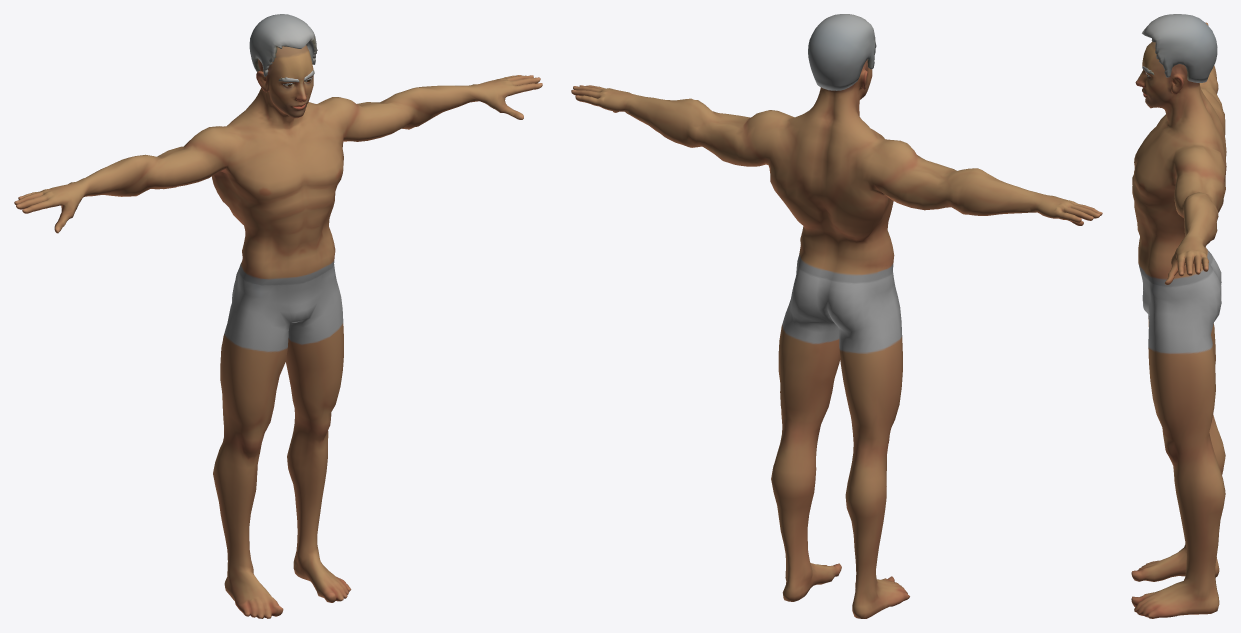
Rendered from character-male-c.glb.
The picture shows the model from 3 angles, left to right: view 1: azimuth 30°, elevation 25°; view 2: azimuth 150°, elevation 25°; view 3: azimuth 270°, elevation 25°; orthographic projection.
Visible parts, largest first — view 1: crowd-body; view 2: crowd-body; view 3: crowd-body.
Boxes of the visible parts, x1,y1,x2,y2 form: crowd-body: [14, 14, 542, 618]; crowd-body: [571, 14, 1102, 618]; crowd-body: [1131, 14, 1226, 618].
Size of the model in its own units: 1.53 by 1.61 by 0.2399.
Materials: 4 (4 with a texture image).
